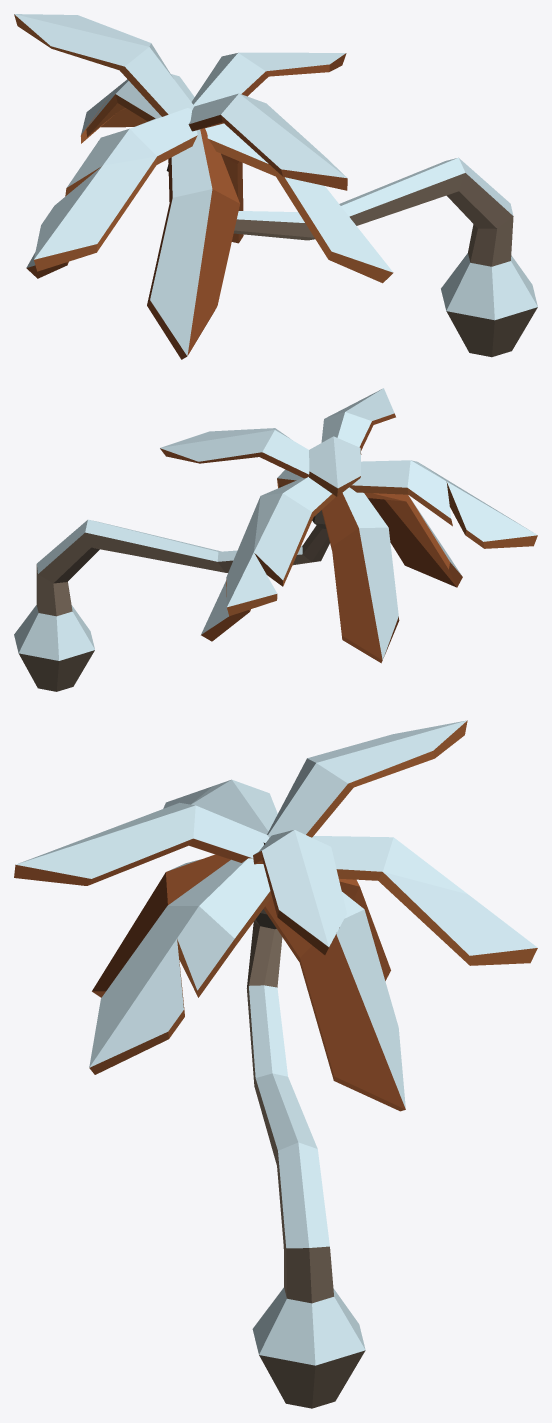
File: SM_Env_Pirate_Palm_03_Snow.fbx
3 renders of one model, top to bottom at view 1: azimuth 30°, elevation 25°; view 2: azimuth 150°, elevation 25°; view 3: azimuth 270°, elevation 25°, orthographic. The views are drawn at different scales.
Parts seen in each view (by area): view 1: SM_Env_Pirate_Palm_03_Snow; view 2: SM_Env_Pirate_Palm_03_Snow; view 3: SM_Env_Pirate_Palm_03_Snow.
Boxes of the visible parts, box(x1,y1,x2,y2) form: SM_Env_Pirate_Palm_03_Snow: box(14, 14, 537, 359); SM_Env_Pirate_Palm_03_Snow: box(14, 388, 537, 691); SM_Env_Pirate_Palm_03_Snow: box(14, 720, 537, 1408).
Bounding box in the file's own units: 106 × 69 × 73.64.
Materials: 1 (1 with a texture image).
